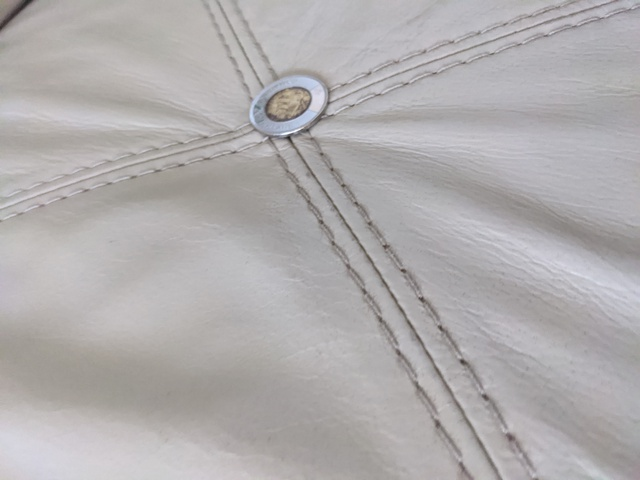twonie: (248, 68, 329, 141)
